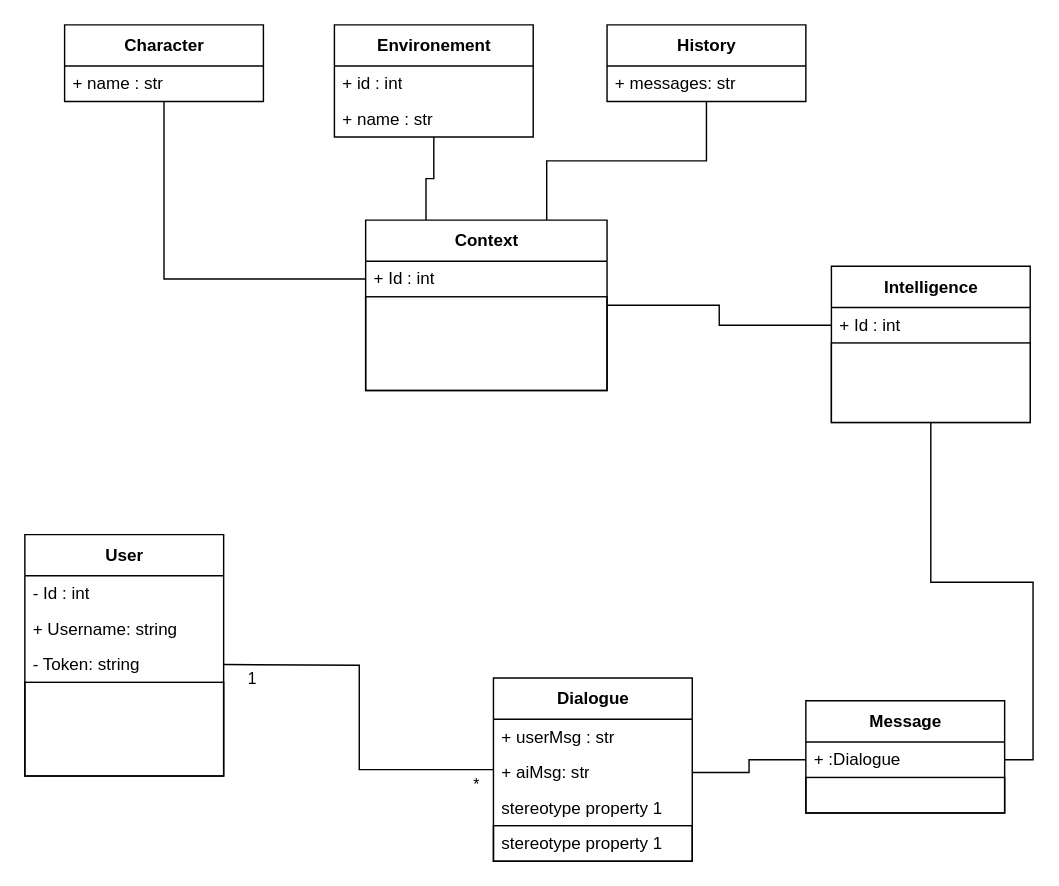
The diagram is 1059 pixels wide and 886 high, and some of its shapes have lost their labels. The centre of each missing label's shape, as x and y in pixels:
"+ connectToApi() +getContext()" goes at pixel 930 382.
"+ createDialogue() + openDialogue() + setContext() + sendMessage()" goes at pixel 123 728.
"+ getHistory() + getCharacter() + getEnvironement()" goes at pixel 485 342.
"+ readDialogue()" goes at pixel 904 794.
